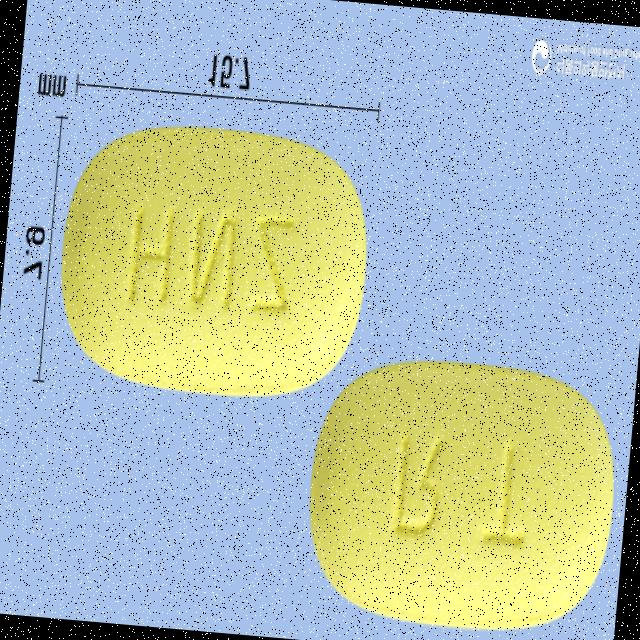Claniz - 500mg: (46, 111, 381, 412), (297, 347, 630, 640)
